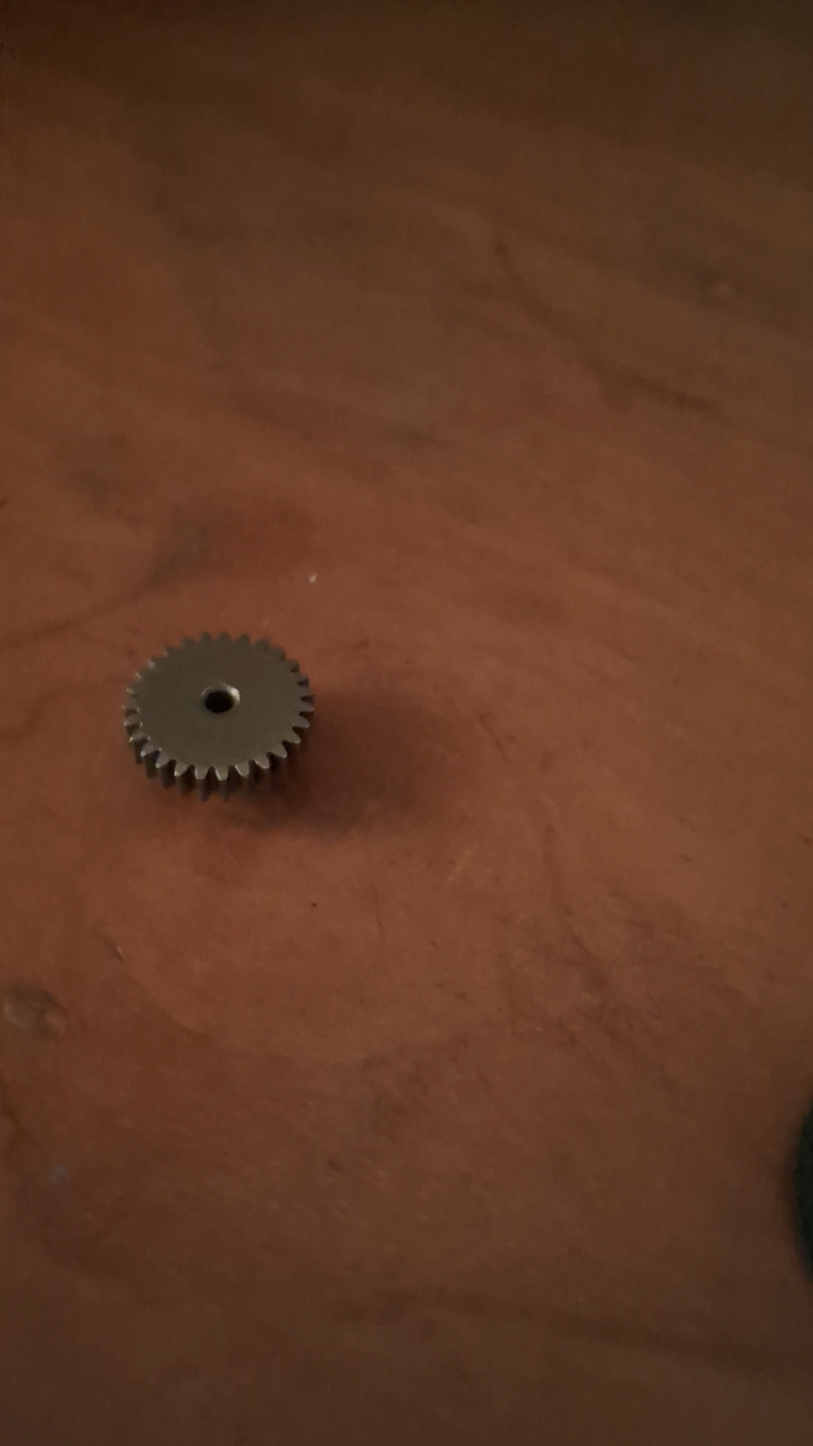spur gear: (125, 633, 313, 798)
